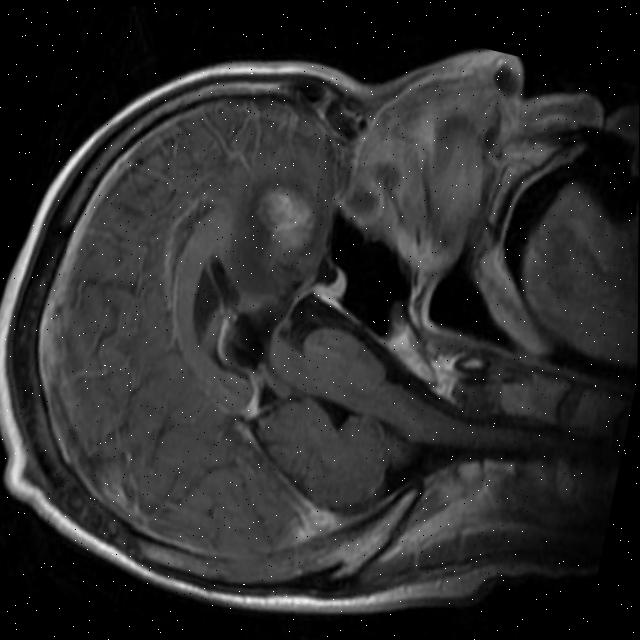Meningioma: (249, 180, 322, 257)
